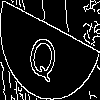Q: (25, 25, 62, 85)
